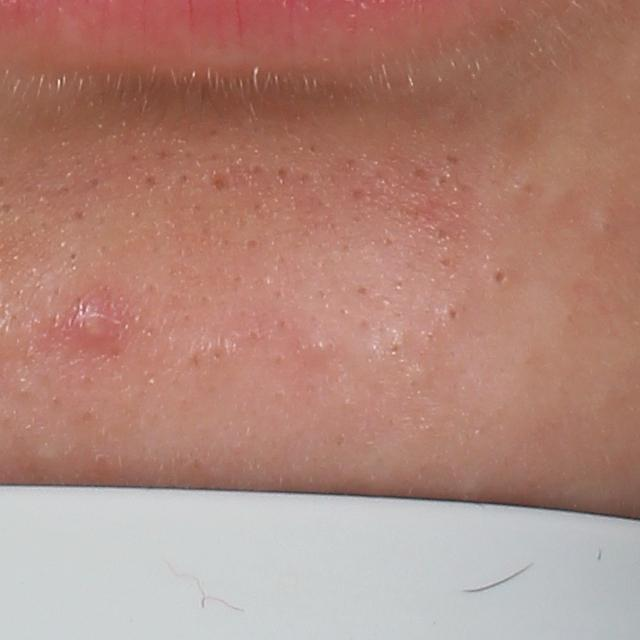comedo: (486, 263, 514, 296), (591, 210, 616, 243), (439, 298, 465, 329), (314, 335, 340, 365), (272, 164, 293, 185), (209, 168, 227, 192), (67, 245, 83, 266)
pustule: (75, 308, 122, 351)
